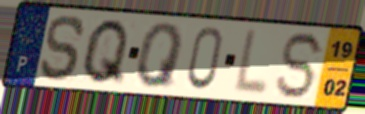0: (186, 25, 225, 92)
L: (230, 27, 272, 99)
Q: (79, 17, 132, 88), (134, 21, 186, 90)
S: (273, 30, 328, 101), (38, 12, 89, 84)
